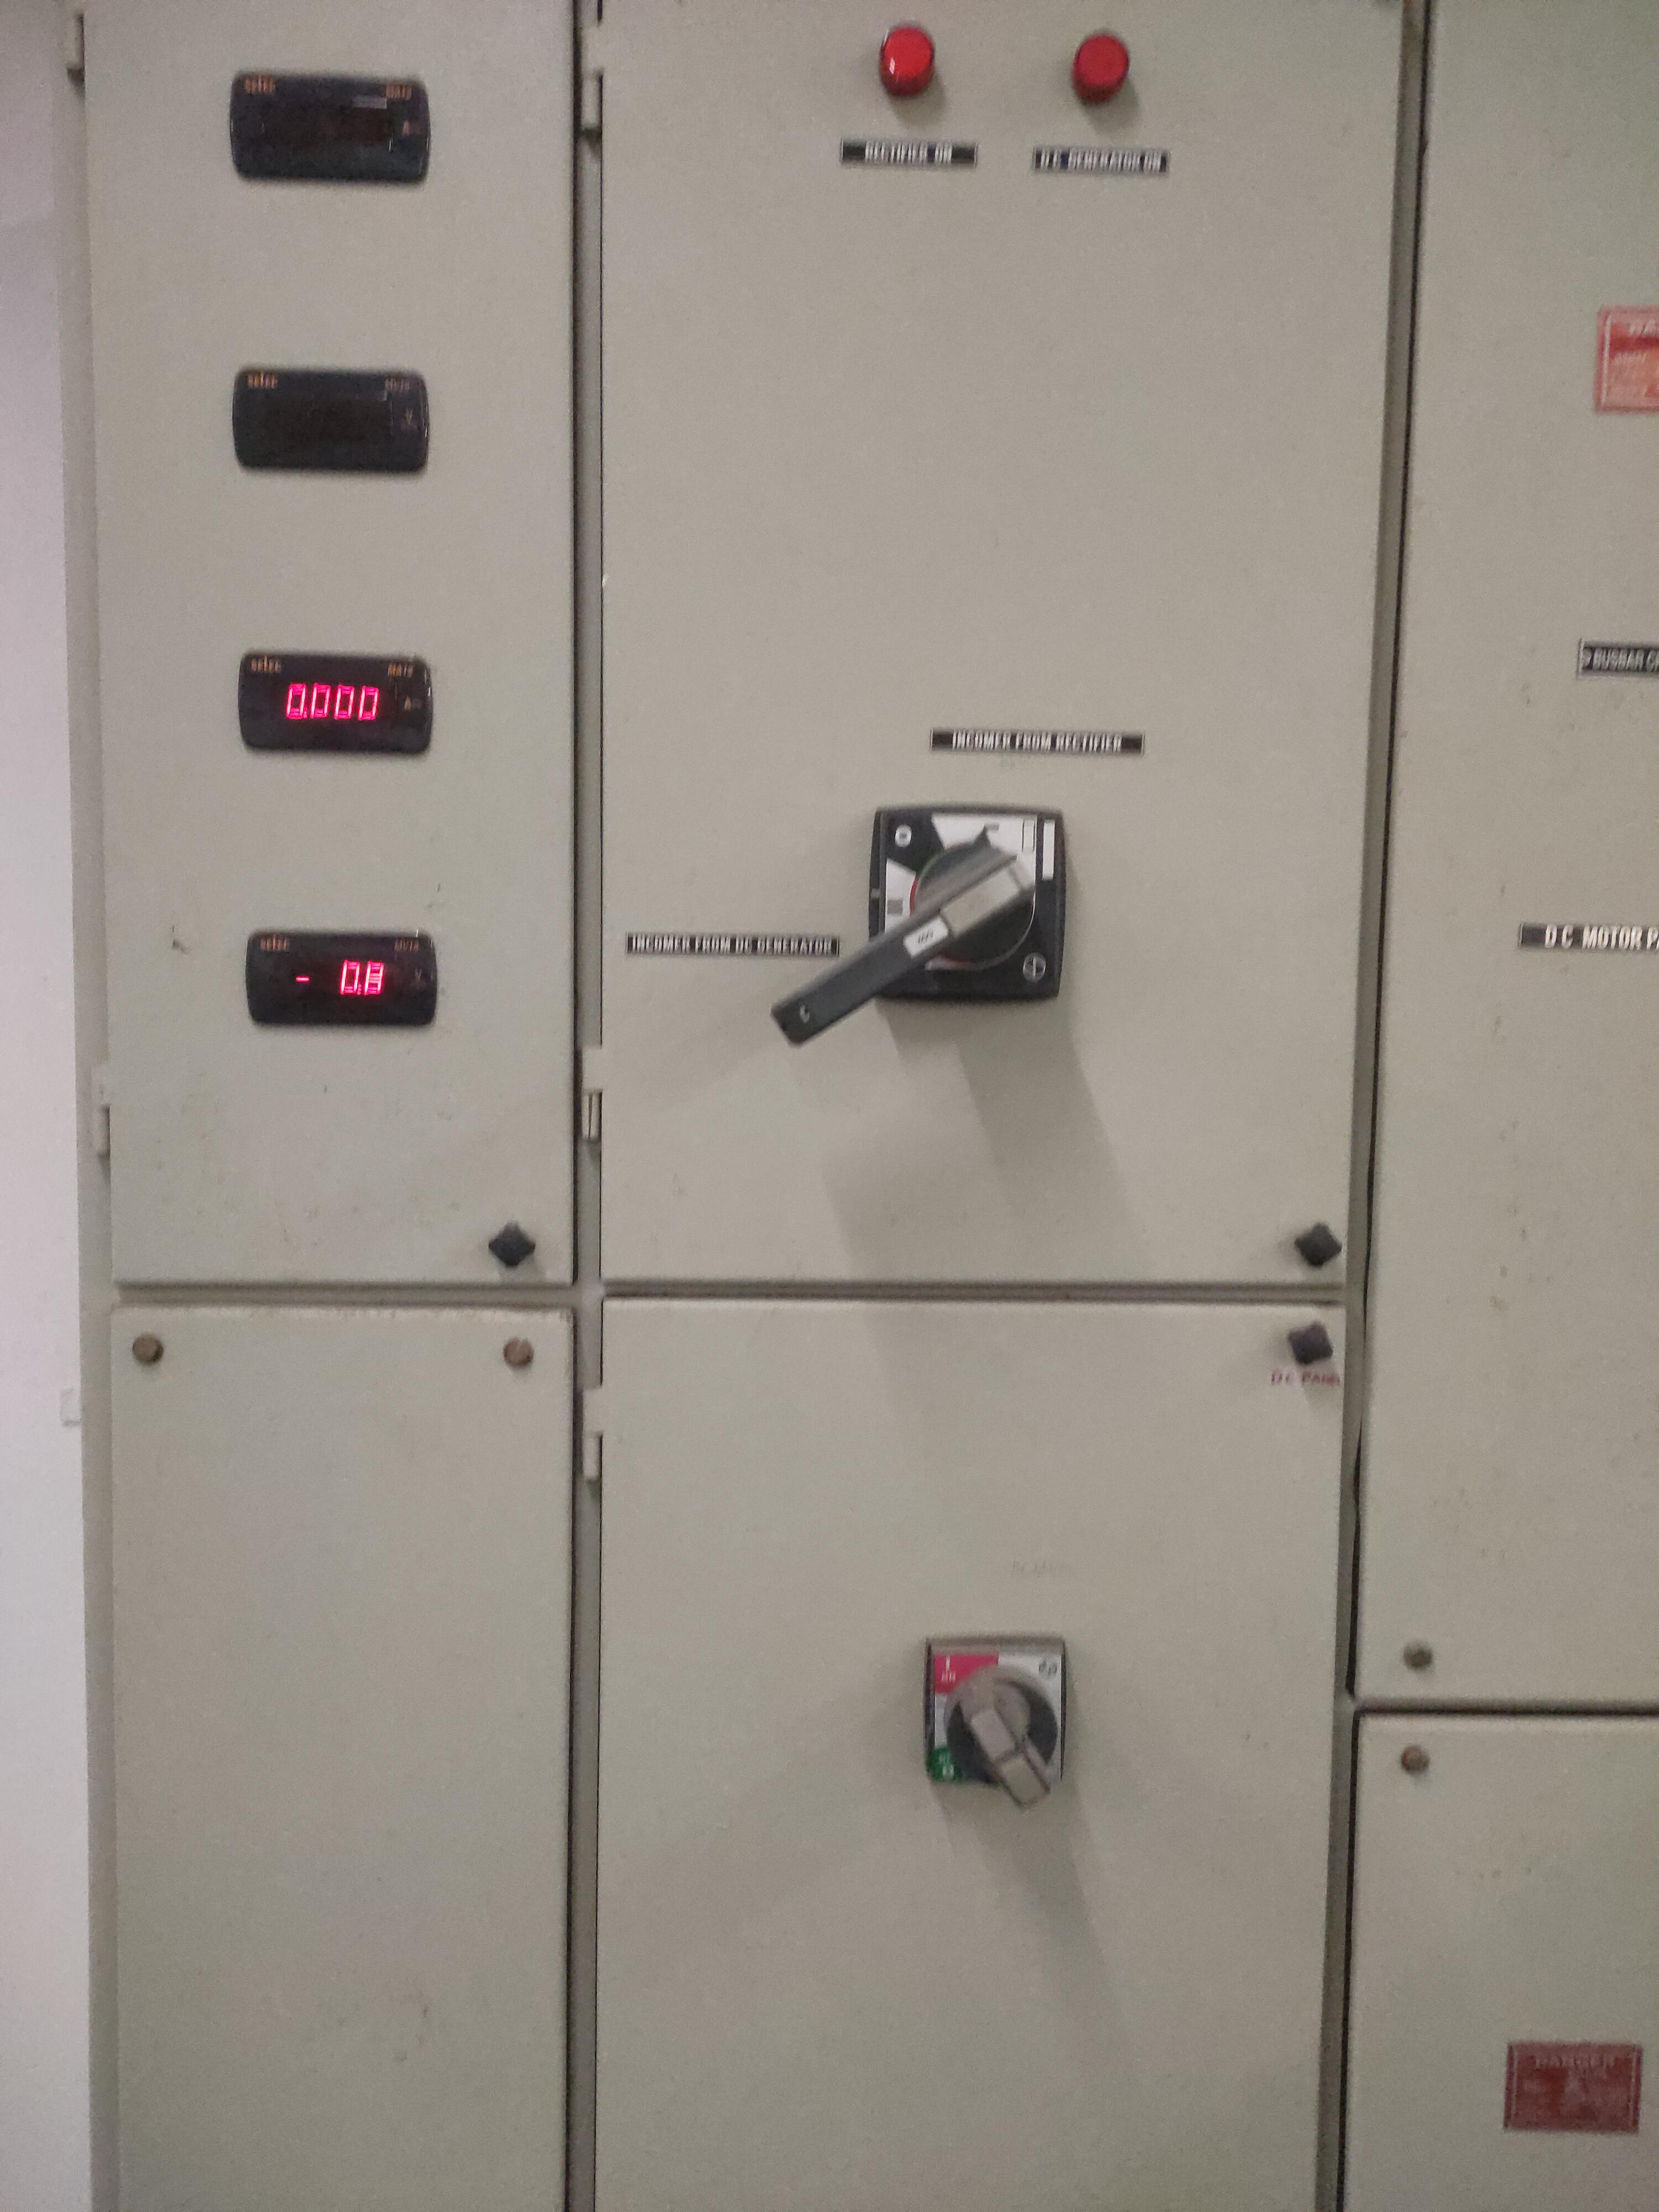Knob 1: (711, 775, 1094, 1097)
Knob 2: (892, 1590, 1107, 1846)
Light Indications: (847, 5, 1204, 164)
